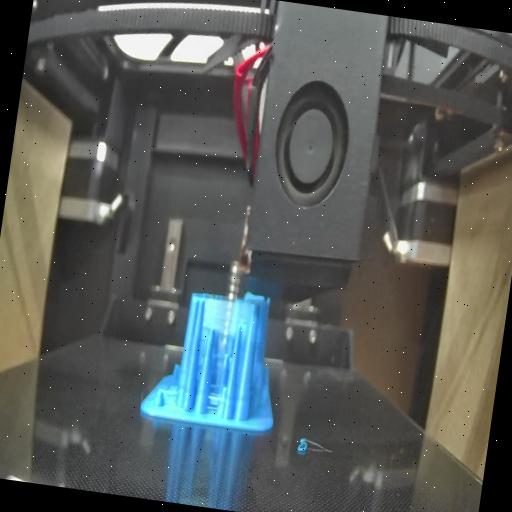stringing: (198, 294, 252, 342), (204, 384, 225, 422), (157, 380, 180, 402)
